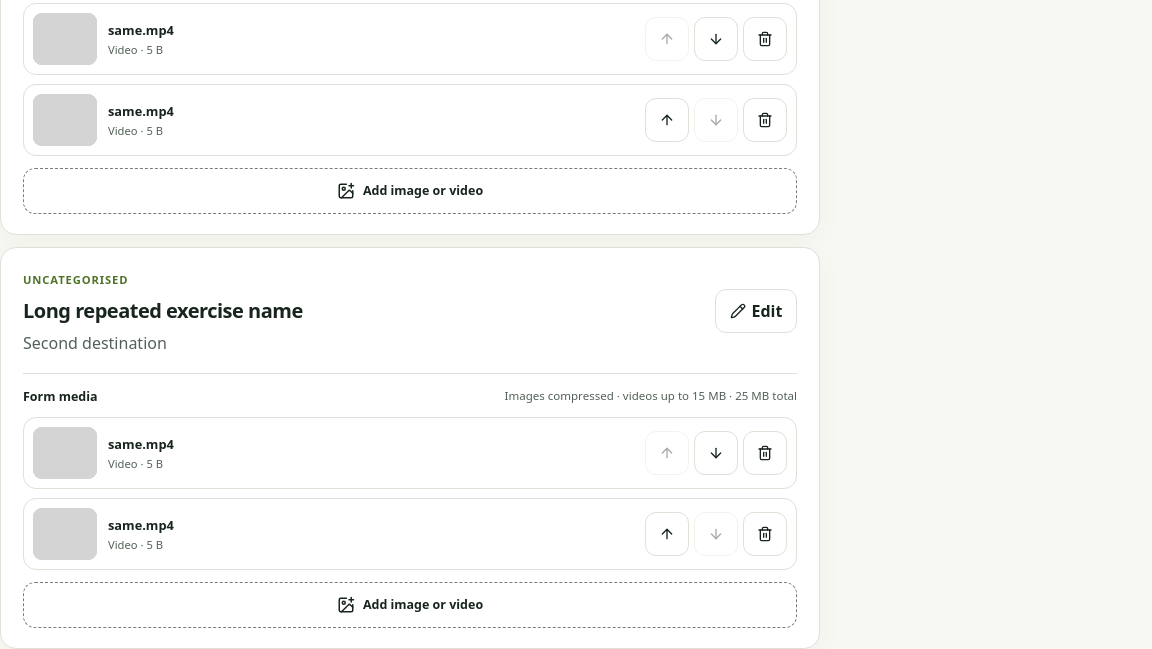
addresses repeated exercise and media names independently through public actions
(page scrolled)
Expected: the text "Second destination" is shown, [23,332,167,354]
What coordinates should you click on to do the following:
click the button named "Remove same.mp4 — Long repeated exercise name, exercise 2, media 2"
I would click on:
 (765, 534)
Its box is [743,512,787,556].
(page scrolled)
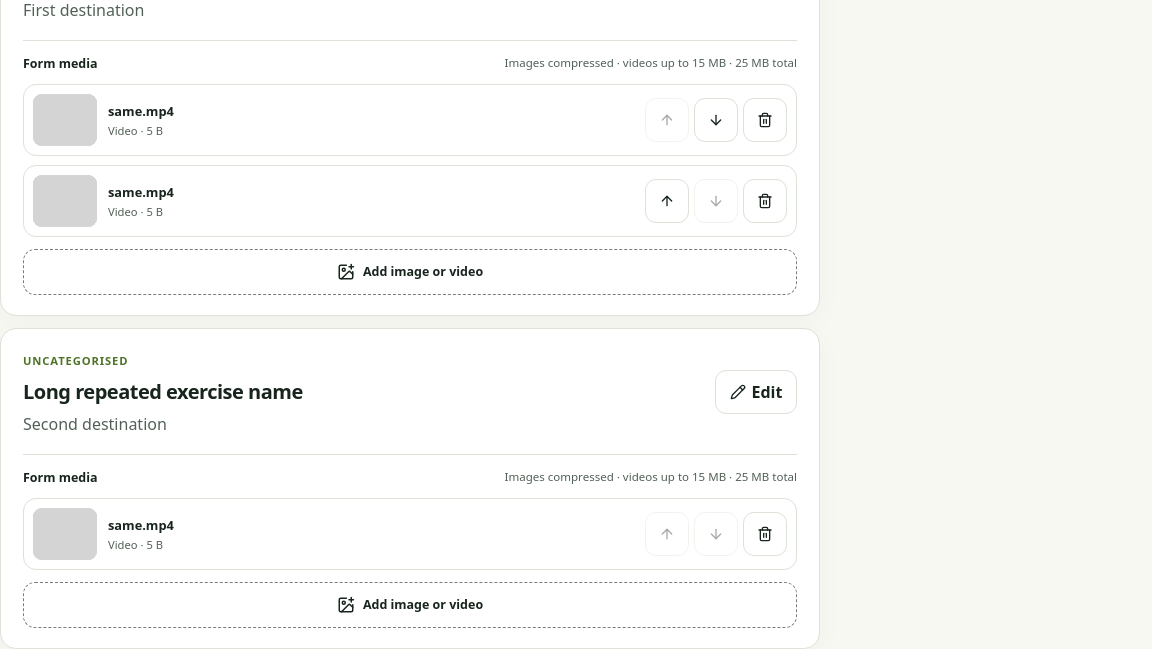
What coordinates should you click on to do the following:
click the button with aria-label "Edit Long repeated exercise name, exercise 2"
I would click on:
 (756, 392)
Its box is [715,370,797,414].
(page scrolled)
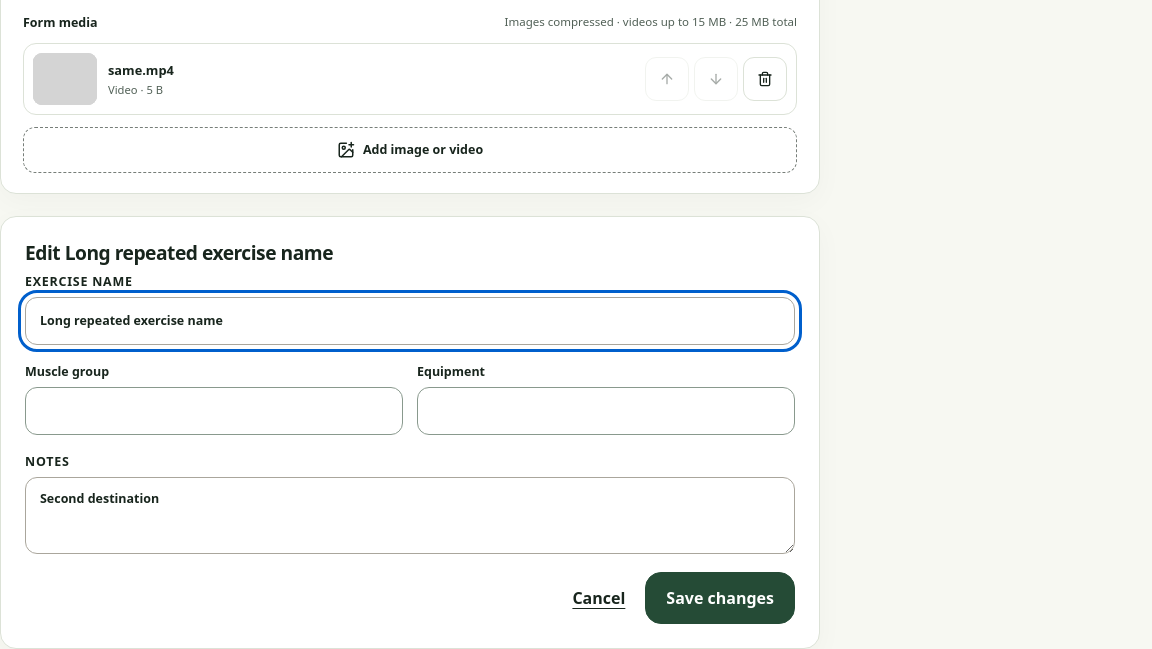
Result: the text box labelled "Notes" holds "Second destination" at [25,477,795,554]
